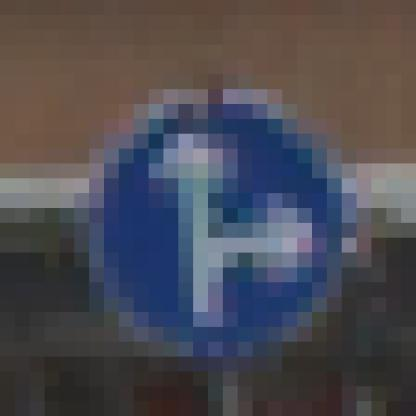Straight or Right: (90, 75, 343, 343)
